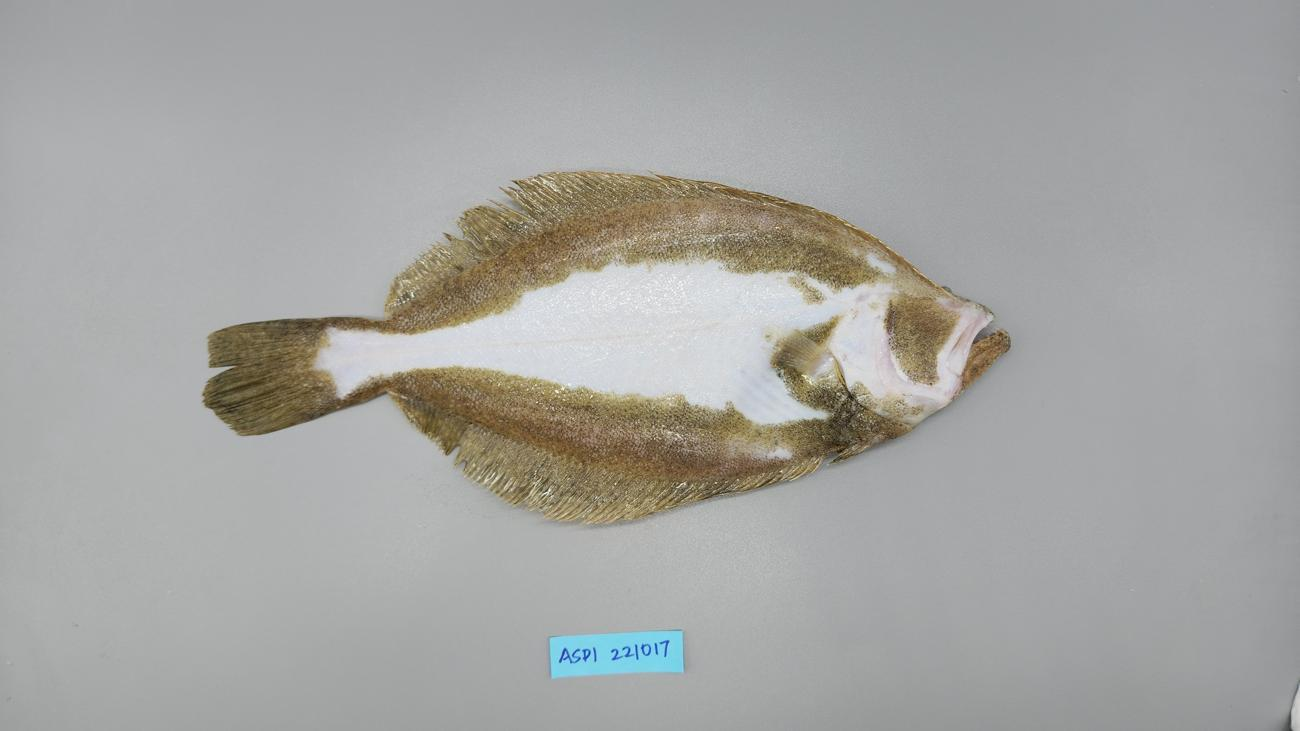SPDYH: (315, 200, 838, 333)
SPOUY: (197, 161, 1015, 534)
